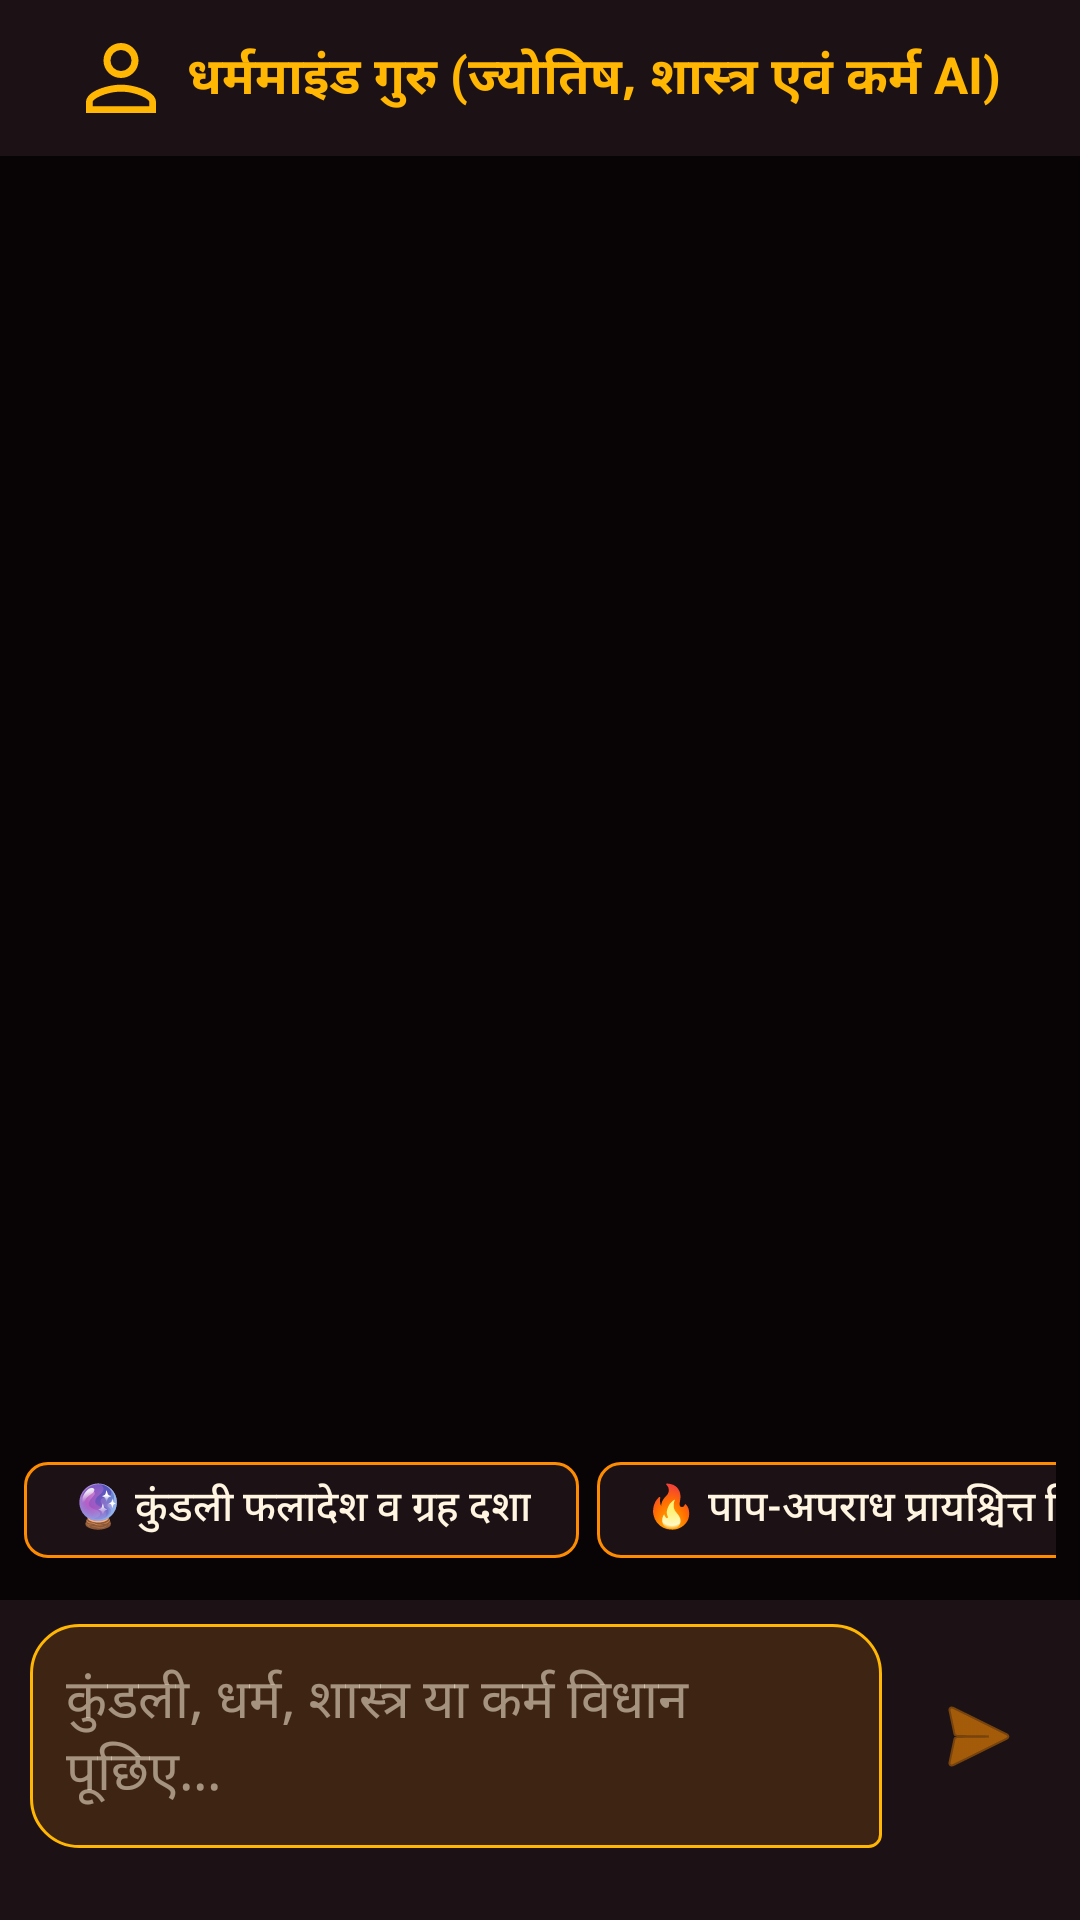

Icon bounding boxes for this 1080*1920 phone screenshot, format (x1, y1, x2, y2):
Guru Avatar: (86, 43, 156, 113)
Send: (948, 1706, 1010, 1767)
